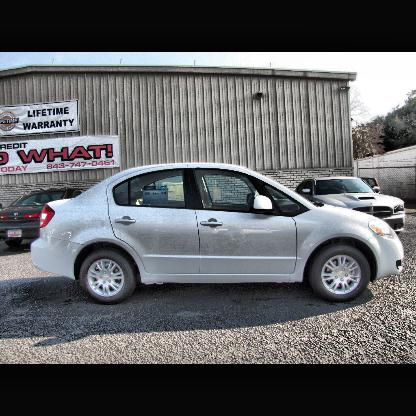Suzuki SX4 Sedan 2012: (29, 159, 408, 308)
